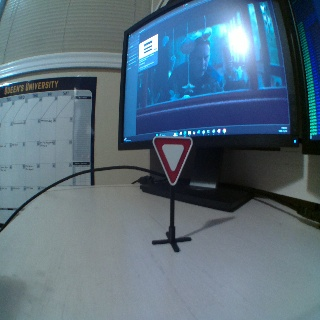sign_yield: (151, 136, 195, 183)
